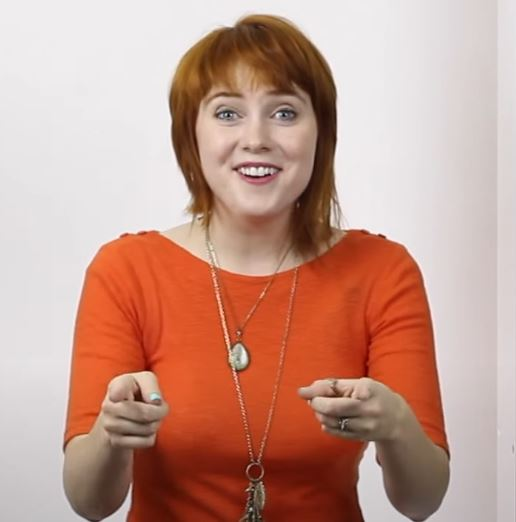go: (98, 361, 422, 473)
